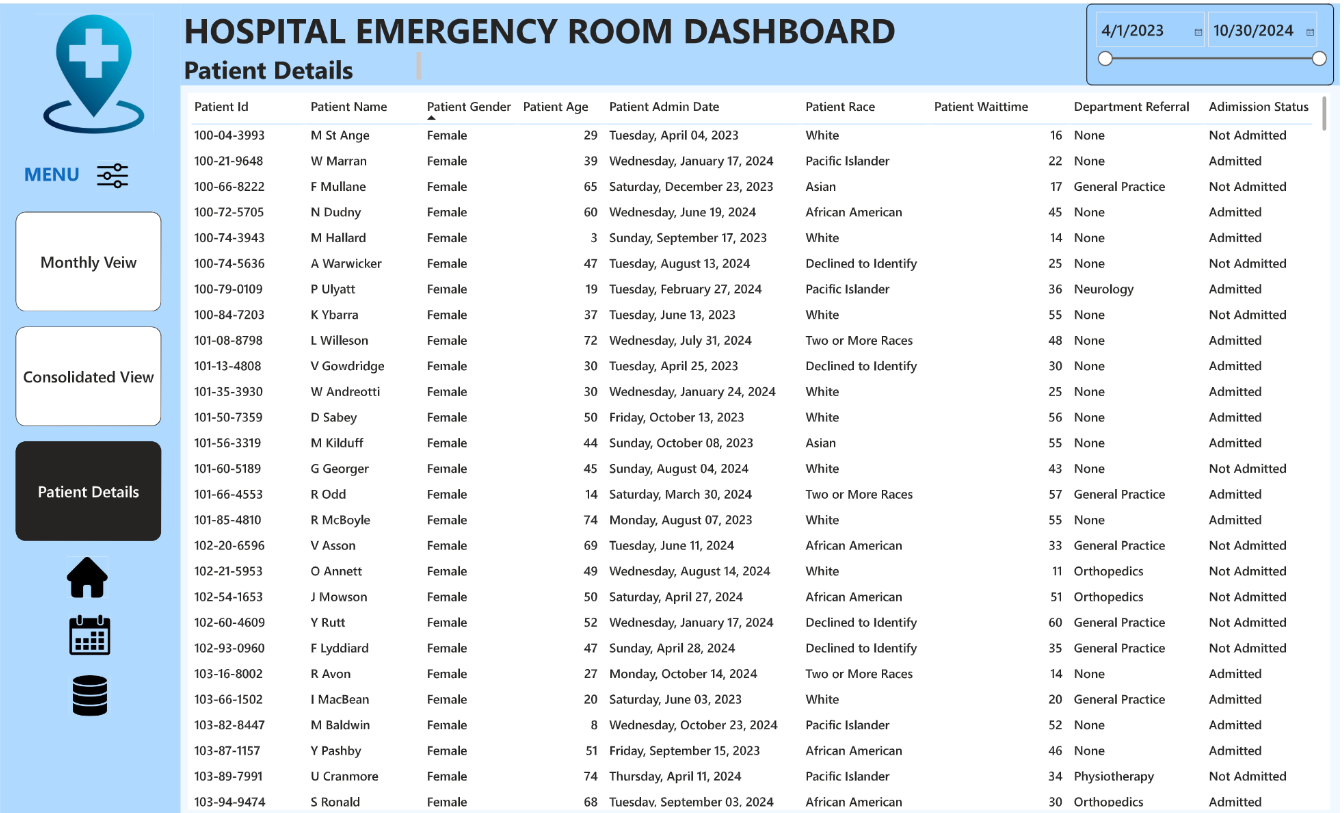

This screenshot's page, from the dashboard's own definition file:
{"tool":"powerbi","page":{"name":"Patient Details","canvas":[2300,1400],"ordinal":2},"visuals":[{"type":"shape","box":[0,0,310,1400],"z":0},{"type":"shape","box":[310.2,0,1990.2,140],"z":1000},{"type":"textbox","box":[310,0,1457.5,120],"z":2000},{"type":"textbox","box":[310,77.5,417.5,62.5],"z":3000},{"type":"slicer","fields":{"Values":["Date Table.Date"]},"box":[1865,0,425,140],"z":4000},{"type":"image","box":[10,12.5,300,215],"z":5000},{"type":"textbox","box":[19.2,263.5,140,74.1],"z":6000},{"type":"image","box":[140,263.5,107.1,63.1],"z":7000},{"type":"tableEx","fields":{"Values":["Hospital ER_Data.Patient Id","Hospital ER_Data.Patient Full Name","Hospital ER_Data.Patient Gender","Hospital ER_Data.Patient Age","Hospital ER_Data.Patient Admin Date","Hospital ER_Data.Patient Race","Hospital ER_Data.Patient Waittime","Hospital ER_Data.Department Referral","Hospital ER_Data.Adimission Status"]},"box":[322.5,152.5,1960,1230],"z":8000},{"type":"pageNavigator","box":[27.5,356.9,249.8,565.5],"z":9000},{"type":"image","box":[72.5,945.6,165.3,121.8],"z":10000},{"type":"image","box":[58,1096.4,191.4,118.9],"z":11000},{"type":"image","box":[0,1317.6,54.9,82.4],"z":13000},{"type":"textbox","box":[54.9,1331.4,222.4,54.9],"z":14000}]}

Visuals, with their boxes in screenshot pixels (x1, y1, x2, y2), scaled from the page's 2300x1400 canvas onto the 1344x813 screenshot:
shape: 0,0,181,812
shape: 181,0,1343,81
textbox: 181,0,1033,70
textbox: 181,45,425,81
slicer - Date Table.Date: 1090,0,1338,81
image: 6,7,181,132
textbox: 11,153,93,196
image: 82,153,144,190
tableEx - Hospital ER_Data.Patient Id x Hospital ER_Data.Patient Full Name: 188,89,1334,803
pageNavigator: 16,207,162,536
image: 42,549,139,620
image: 34,637,146,706
image: 0,765,32,812
textbox: 32,773,162,805
